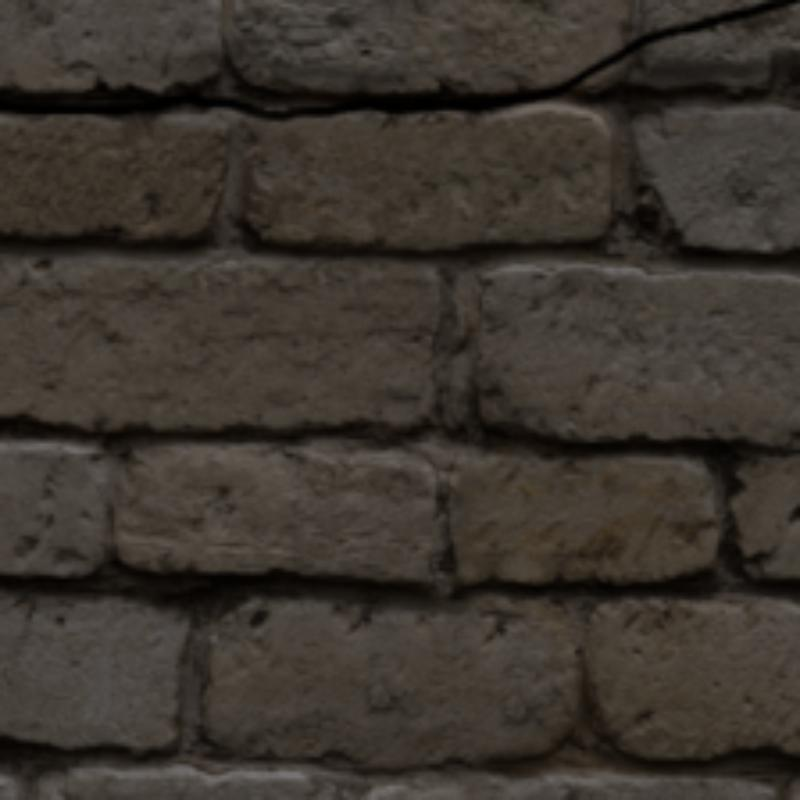pothole: (0, 0, 796, 118)
